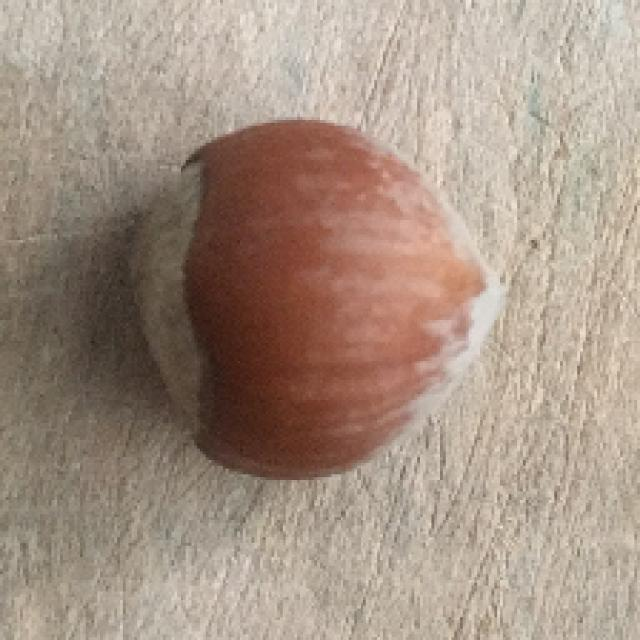qualityHazelnut: (112, 106, 518, 503)
